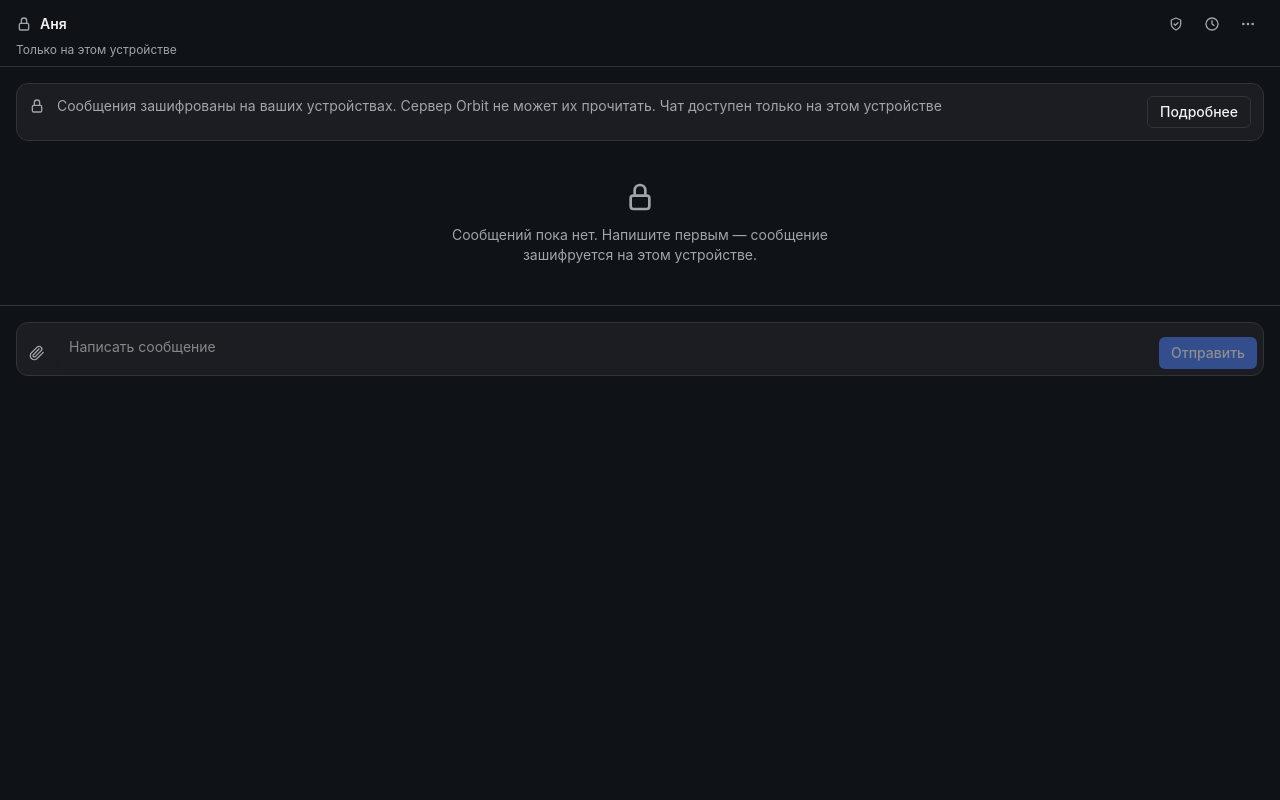
Test: opens the honest details behind «Подробнее»
The image size is (1280, 800).
Expected: the text "Сообщения зашифрованы на ваших устройствах. Сервер Orbit не может их прочитать. Чат доступен только на этом устройстве" is shown, [57, 97, 942, 114]
Click the button "Подробнее" at coordinates (1199, 112), box [1147, 96, 1251, 128]
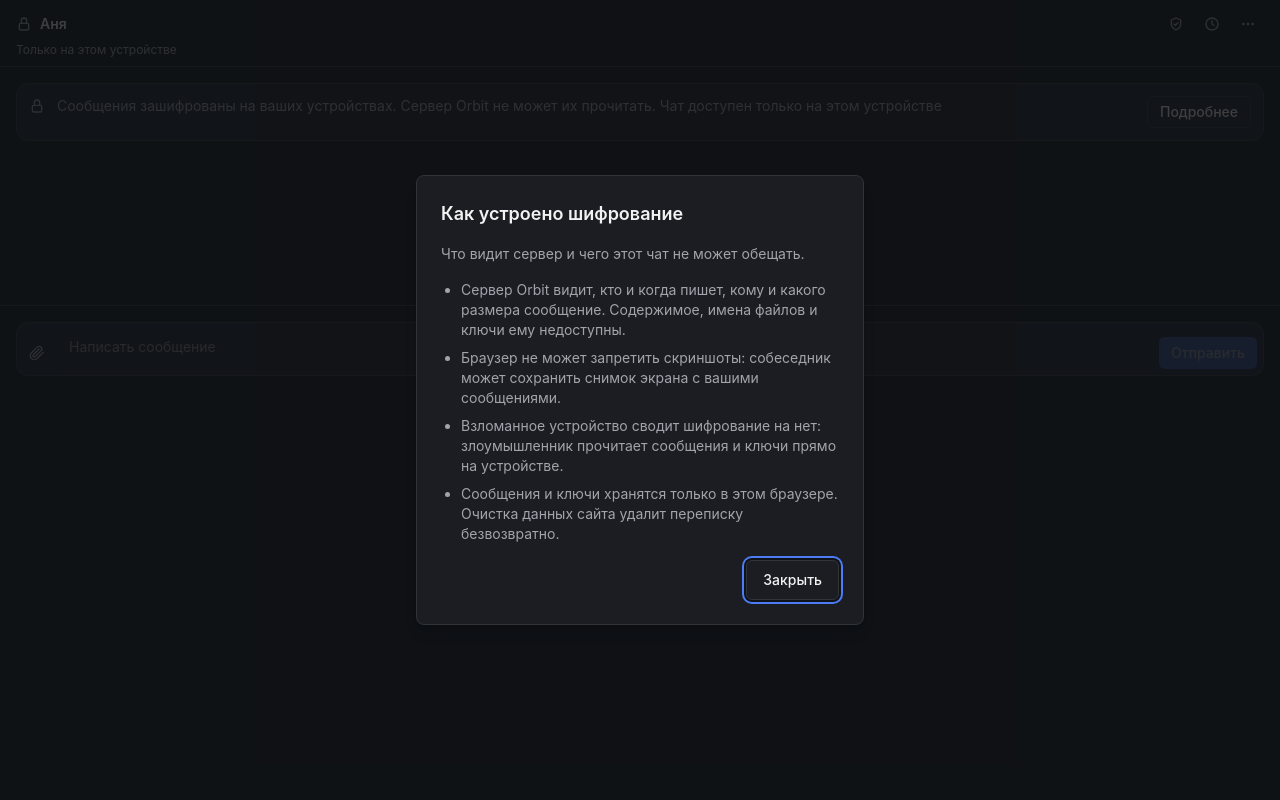
Result: the list item "Сервер Orbit видит" is shown at [461, 281, 826, 338]
Result: the list item "Браузер не может запретить скриншоты" is shown at [461, 349, 831, 406]
Result: the list item "Взломанное устройство" is shown at [461, 417, 836, 474]
